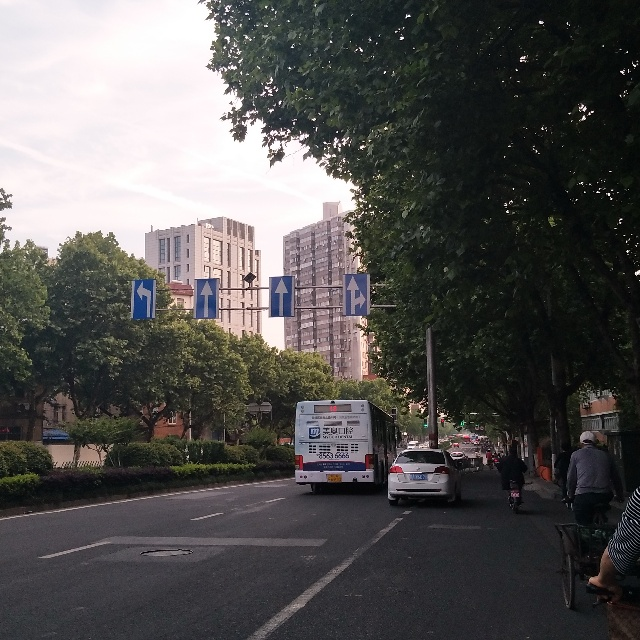left: (136, 280, 152, 316)
straight: (272, 277, 293, 316), (197, 278, 216, 318)
